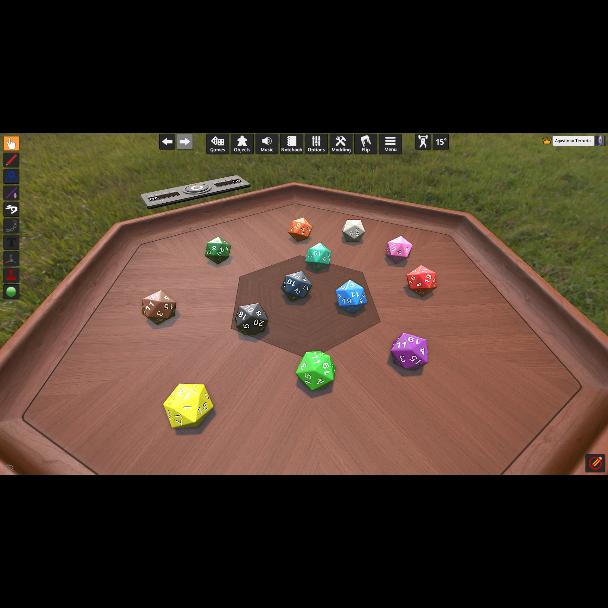d20: (164, 382, 215, 428), (296, 352, 333, 390), (391, 333, 427, 369), (142, 290, 176, 326), (235, 304, 269, 336), (334, 280, 364, 312), (405, 266, 435, 296), (282, 272, 310, 300), (204, 236, 229, 266), (385, 236, 410, 264), (305, 244, 329, 270), (289, 218, 311, 242), (342, 219, 364, 241)
